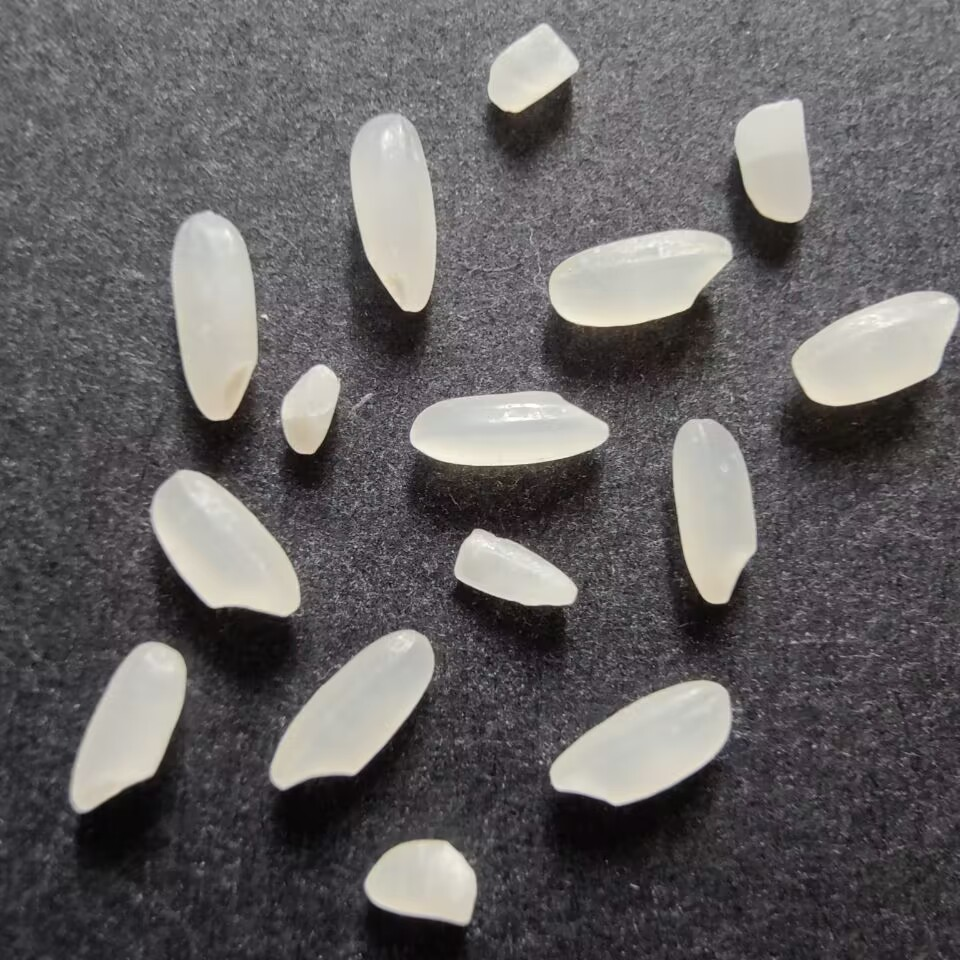broken: (449, 521, 584, 616), (727, 96, 818, 226), (359, 836, 481, 931), (484, 19, 582, 119), (274, 360, 345, 459)
rice: (267, 627, 437, 793), (544, 676, 732, 807), (147, 466, 305, 619), (63, 637, 187, 817), (787, 287, 960, 408), (166, 206, 261, 424), (543, 229, 738, 328), (347, 111, 441, 316), (671, 415, 760, 608), (405, 386, 614, 467)
